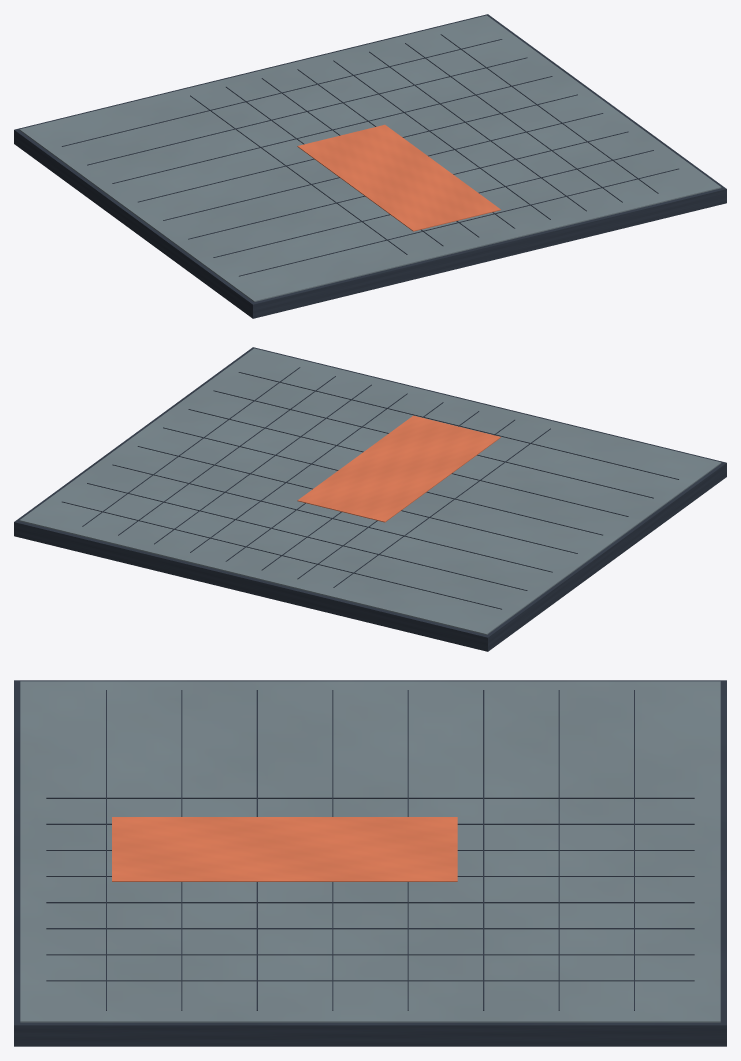
The model's file is atlas100-s024-a07.lod1.glb.
3 views of the same model, one above another, from view 1: azimuth 30°, elevation 25°; view 2: azimuth 150°, elevation 25°; view 3: azimuth 270°, elevation 25° (orthographic). The views are drawn at different scales.
Parts seen in each view (by area): view 1: atlas100-s024-a07:part-001, atlas100-s024-a07:part-000, atlas100-s024-a07:part-021, atlas100-s024-a07:part-020, atlas100-s024-a07:part-013, atlas100-s024-a07:part-014, atlas100-s024-a07:part-015, atlas100-s024-a07:part-019, atlas100-s024-a07:part-018, atlas100-s024-a07:part-017, atlas100-s024-a07:part-016; view 2: atlas100-s024-a07:part-001, atlas100-s024-a07:part-000, atlas100-s024-a07:part-021, atlas100-s024-a07:part-015, atlas100-s024-a07:part-013, atlas100-s024-a07:part-014, atlas100-s024-a07:part-020, atlas100-s024-a07:part-016, atlas100-s024-a07:part-018, atlas100-s024-a07:part-017, atlas100-s024-a07:part-019; view 3: atlas100-s024-a07:part-001, atlas100-s024-a07:part-000, atlas100-s024-a07:part-021, atlas100-s024-a07:part-005, atlas100-s024-a07:part-009, atlas100-s024-a07:part-010, atlas100-s024-a07:part-011, atlas100-s024-a07:part-012, atlas100-s024-a07:part-014, atlas100-s024-a07:part-015, atlas100-s024-a07:part-006.
Part boxes in pixels (x1,y1,x2,y2): atlas100-s024-a07:part-001: [19, 15, 721, 301]; atlas100-s024-a07:part-000: [14, 14, 726, 318]; atlas100-s024-a07:part-021: [297, 124, 500, 231]; atlas100-s024-a07:part-020: [239, 168, 678, 276]; atlas100-s024-a07:part-013: [62, 39, 502, 146]; atlas100-s024-a07:part-014: [87, 57, 527, 165]; atlas100-s024-a07:part-015: [112, 76, 552, 183]; atlas100-s024-a07:part-019: [213, 150, 653, 257]; atlas100-s024-a07:part-018: [188, 131, 628, 239]; atlas100-s024-a07:part-017: [163, 113, 603, 220]; atlas100-s024-a07:part-016: [138, 94, 577, 202]; atlas100-s024-a07:part-001: [19, 348, 721, 634]; atlas100-s024-a07:part-000: [14, 347, 726, 651]; atlas100-s024-a07:part-021: [297, 415, 500, 522]; atlas100-s024-a07:part-015: [112, 464, 552, 572]; atlas100-s024-a07:part-013: [62, 501, 501, 609]; atlas100-s024-a07:part-014: [87, 483, 527, 590]; atlas100-s024-a07:part-020: [238, 372, 678, 479]; atlas100-s024-a07:part-016: [137, 446, 577, 553]; atlas100-s024-a07:part-018: [188, 409, 628, 516]; atlas100-s024-a07:part-017: [163, 427, 602, 535]; atlas100-s024-a07:part-019: [213, 390, 653, 498]; atlas100-s024-a07:part-001: [20, 681, 720, 1022]; atlas100-s024-a07:part-000: [14, 680, 726, 1046]; atlas100-s024-a07:part-021: [112, 817, 457, 881]; atlas100-s024-a07:part-005: [46, 797, 694, 798]; atlas100-s024-a07:part-009: [46, 902, 694, 903]; atlas100-s024-a07:part-010: [46, 928, 694, 929]; atlas100-s024-a07:part-011: [46, 954, 694, 955]; atlas100-s024-a07:part-012: [46, 980, 694, 981]; atlas100-s024-a07:part-014: [558, 690, 559, 1010]; atlas100-s024-a07:part-015: [483, 690, 484, 1010]; atlas100-s024-a07:part-006: [46, 823, 694, 824].
Bounding box in the file's own units: 11.9 × 0.404 × 10.4.
3 materials, 3 textured.
